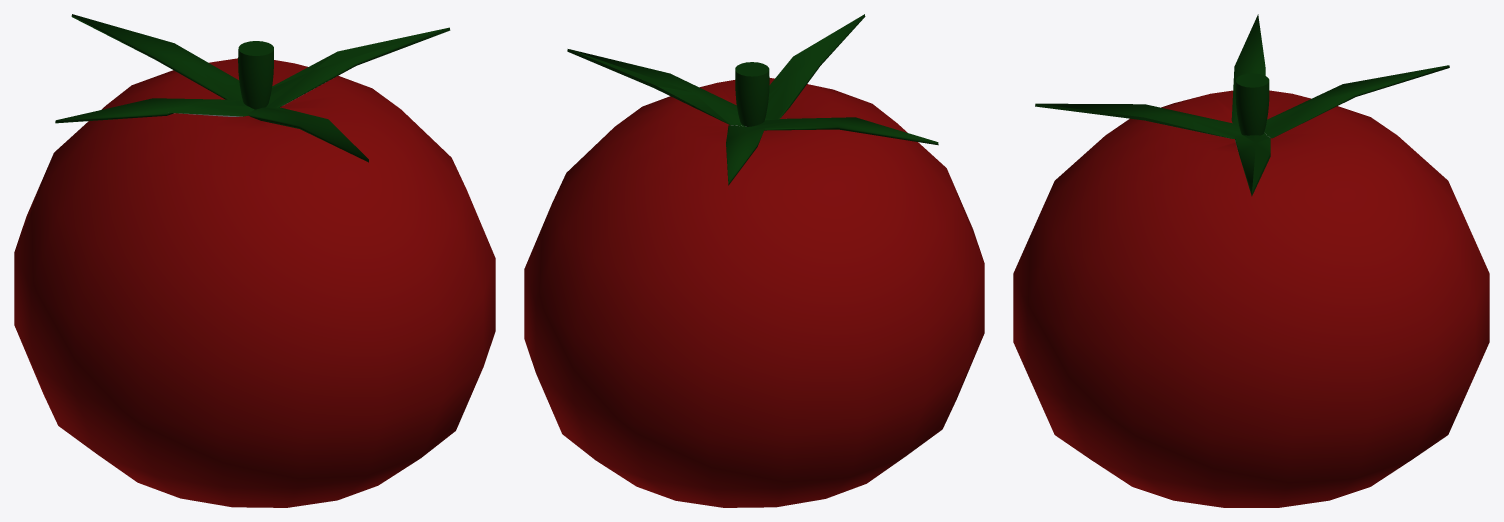
Rendered from tomato.fbx.
The picture shows the model from 3 angles, left to right: view 1: azimuth 30°, elevation 25°; view 2: azimuth 150°, elevation 25°; view 3: azimuth 270°, elevation 25°; orthographic projection. The views are drawn at different scales.
Visible parts, largest first — view 1: Sphere001; view 2: Sphere001; view 3: Sphere001.
Boxes of the visible parts, x1,y1,x2,y2 form: Sphere001: (14, 14, 495, 507); Sphere001: (524, 14, 984, 507); Sphere001: (1013, 14, 1489, 507).
Bounding box in the file's own units: 38.72 × 39.51 × 42.05.
